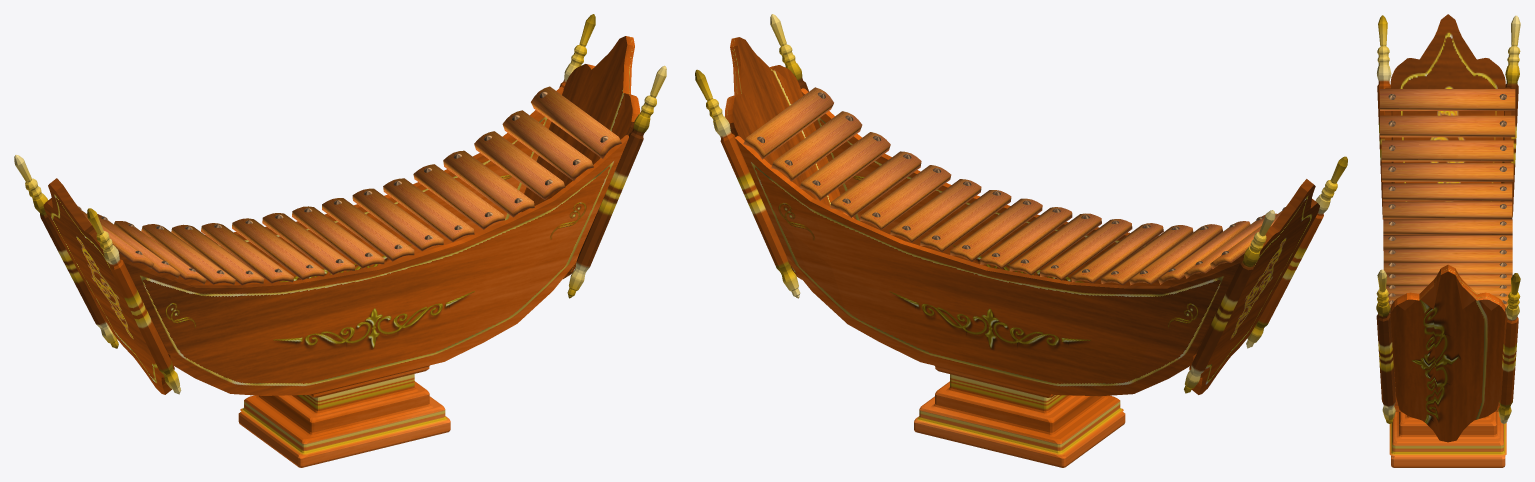
File: asset.glb
3 views of the same model, side by side, from view 1: azimuth 30°, elevation 25°; view 2: azimuth 150°, elevation 25°; view 3: azimuth 270°, elevation 25° (orthographic). The views are drawn at different scales.
Parts seen in each view (by area): view 1: body, Cube; view 2: body, Cube; view 3: body, Cube.
Boxes of the visible parts, <box> form: body: <box>14,14,666,467</box>; Cube: <box>78,86,621,285</box>; body: <box>695,14,1347,467</box>; Cube: <box>743,87,1285,285</box>; body: <box>1376,14,1520,467</box>; Cube: <box>1380,89,1515,313</box>.
Bounding box in the file's own units: 2.32 × 1.26 × 0.5457.
4 materials, 4 textured.
